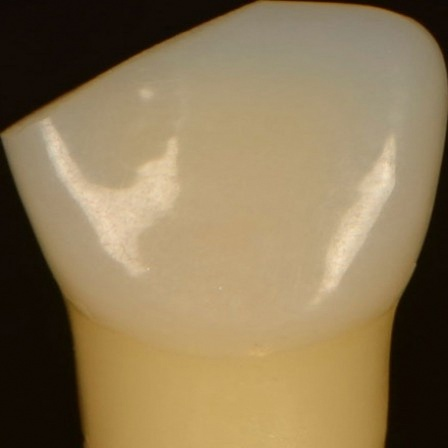coin_1: (67, 306, 87, 326)
coin_2: (35, 226, 55, 246)
coin_3: (398, 301, 418, 321)
coin_4: (439, 180, 448, 200)
